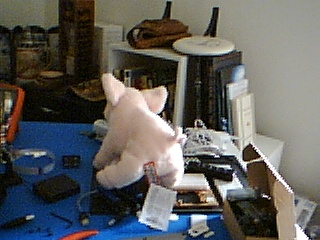piggy: (91, 71, 189, 191)
